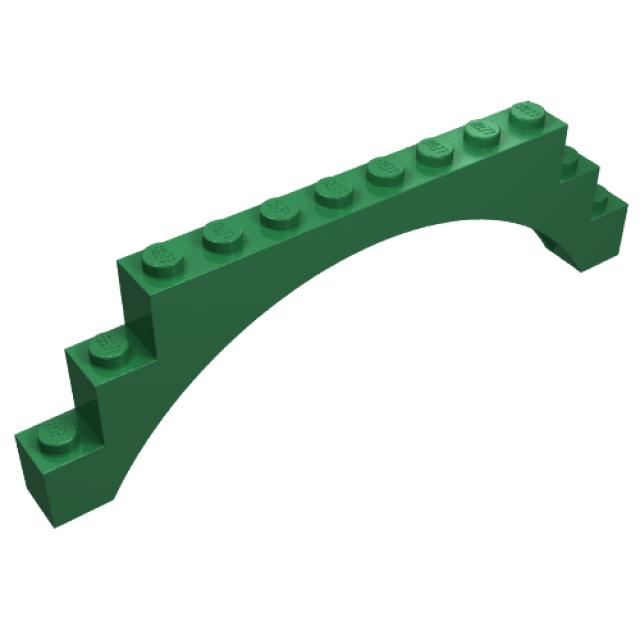Green_Large: (13, 101, 630, 529)
